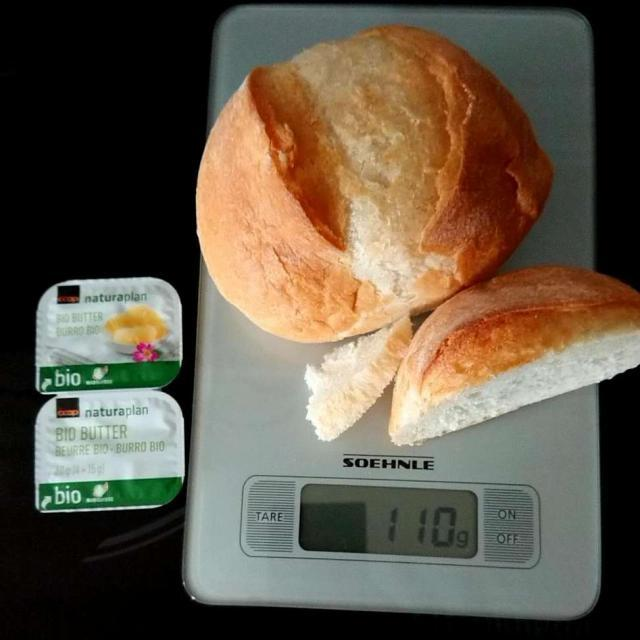bread: (186, 30, 638, 436)
